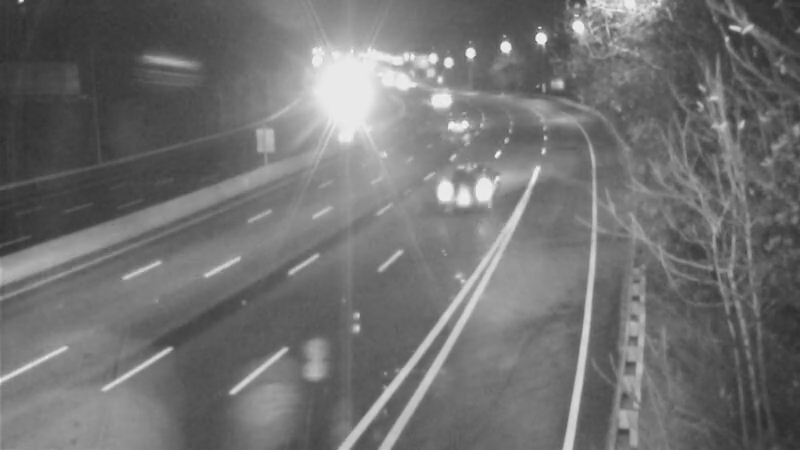vehicle: (416, 148, 496, 228), (410, 70, 460, 120), (433, 96, 483, 146), (312, 89, 362, 139)
